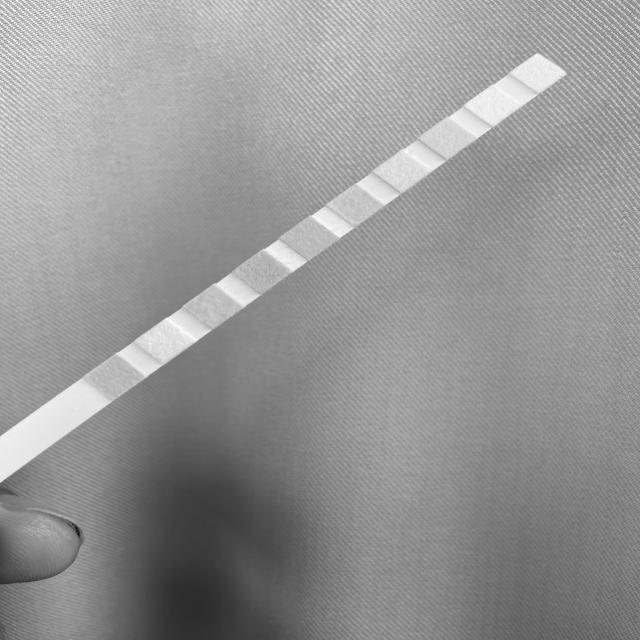Bilirubin: (147, 331, 185, 351)
Blood: (293, 227, 327, 248)
Glucose: (98, 366, 134, 387)
Ketone: (195, 297, 233, 316)
Leukocytes: (524, 62, 553, 84)
Nitrite: (476, 96, 509, 115)
Protein: (384, 162, 420, 180)
SpGravity: (245, 262, 281, 282)
Urobilinogen: (430, 129, 464, 147)
background: (0, 0, 640, 640)
pH: (336, 196, 374, 214)
strip: (1, 52, 567, 485)
